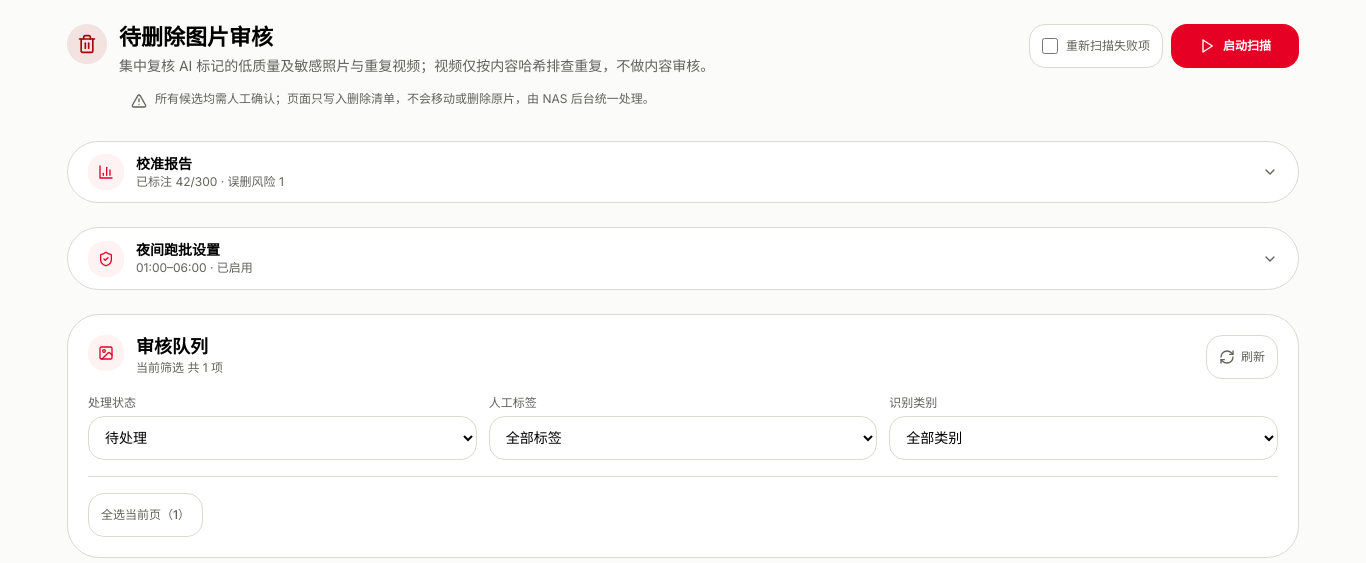
Test: PhotoQuarantinePage › requests failed items first when the start checkbox is selected
Click the checkbox labelled "重新扫描失败项": [1050, 46] box [1042,38,1058,54]
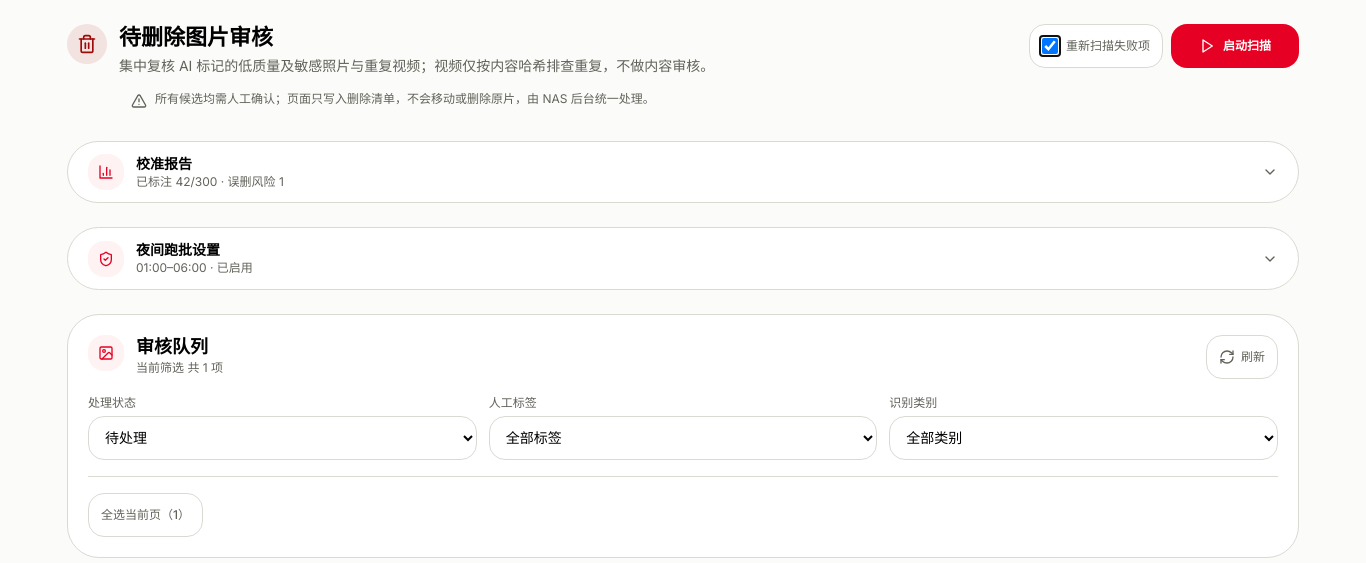
Click the button "启动扫描": [1235, 46] box [1171,24,1299,68]
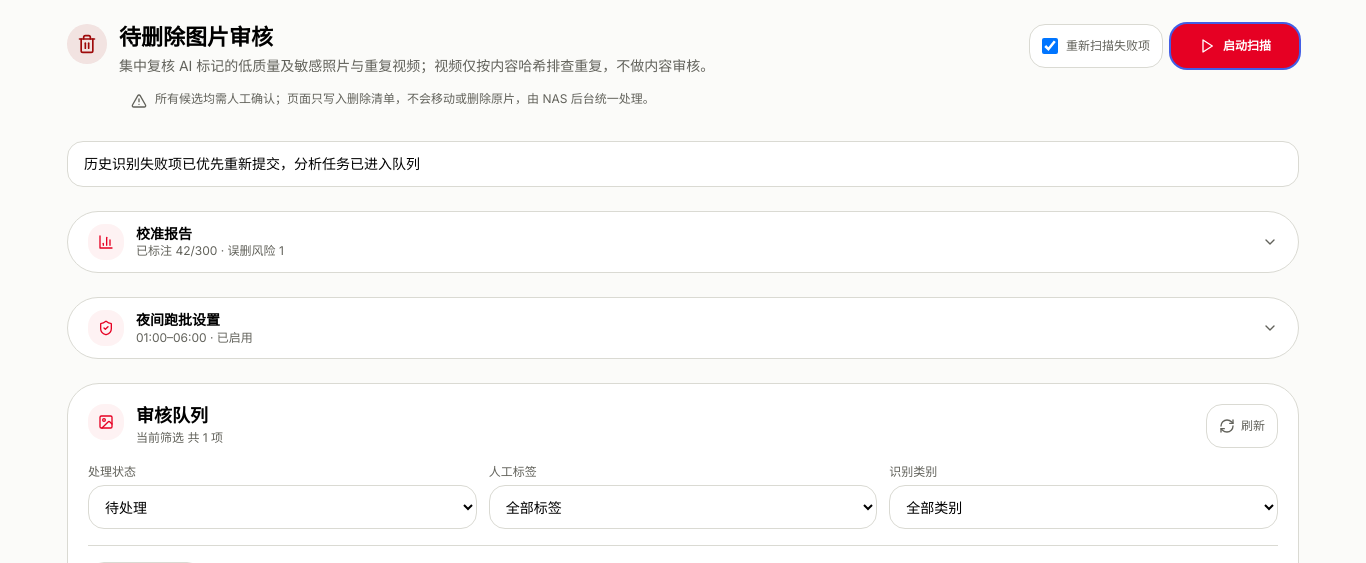
Check: the text "历史识别失败项已优先重新提交，分析任务已进入队列" is shown, box [67,141,1299,187]
